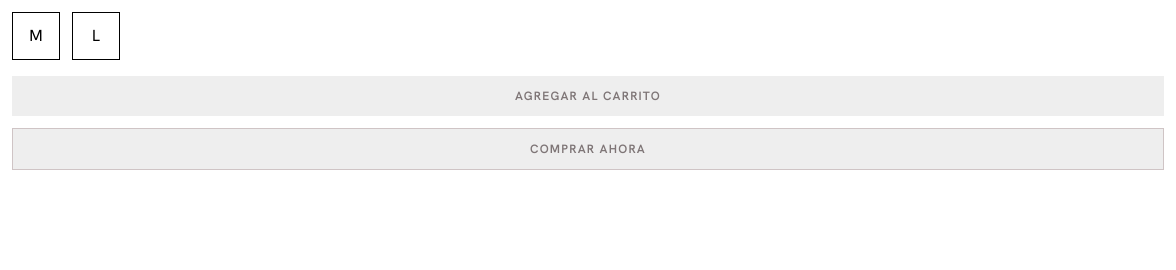
SizeSelector › size + color two-step selection › changing size resets the color selection when the new size has more than one color
Click the button "M" at [36, 36], box [12, 12, 60, 60]
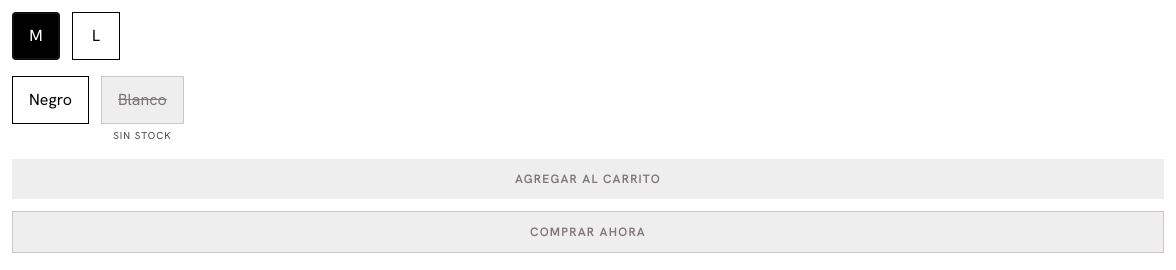
Click the button "Negro" at [50, 100], box [12, 76, 89, 124]
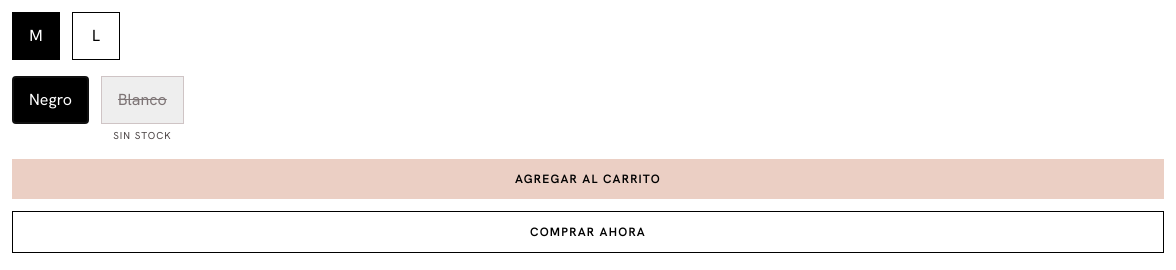
Now the button "Agregar al carrito" is enabled, box [12, 159, 1164, 199]
Click the button "L" at [96, 36], box [72, 12, 120, 60]
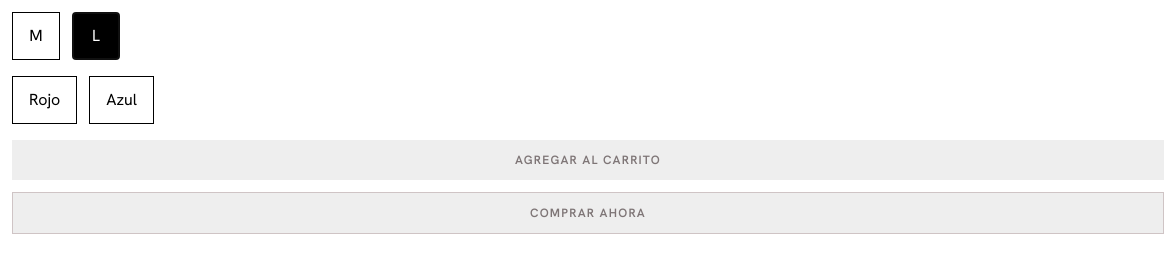
Now the button "Agregar al carrito" is disabled, box [12, 140, 1164, 180]
Now the button "Comprar ahora" is disabled, box [12, 192, 1164, 234]
